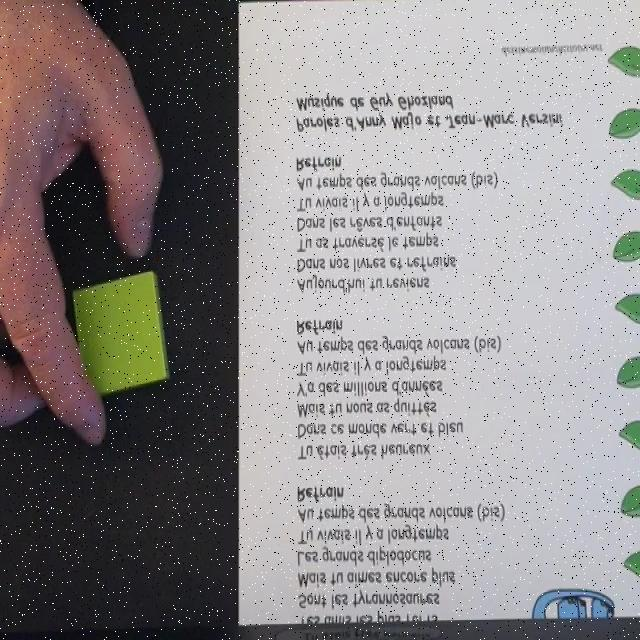square: (72, 270, 170, 400)
